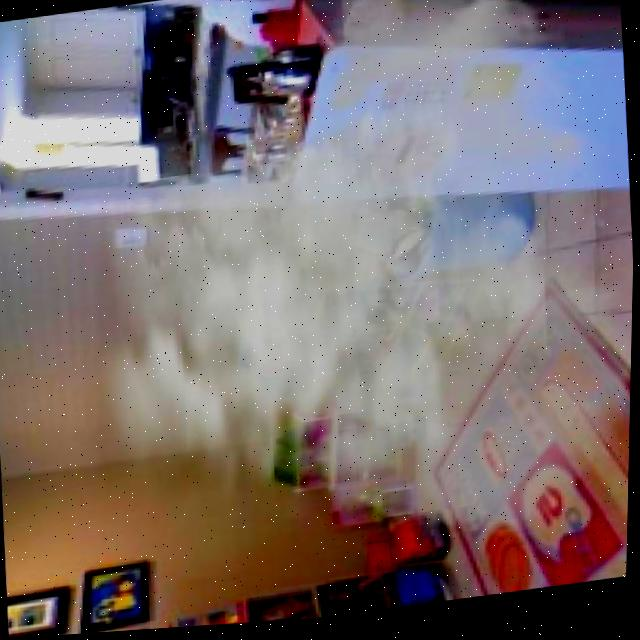Smoke: (53, 0, 635, 607)
